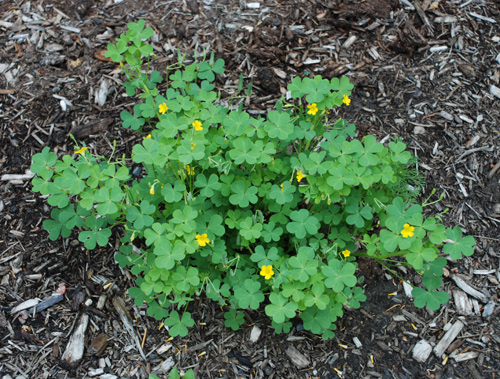oxalis: (66, 53, 436, 329)
